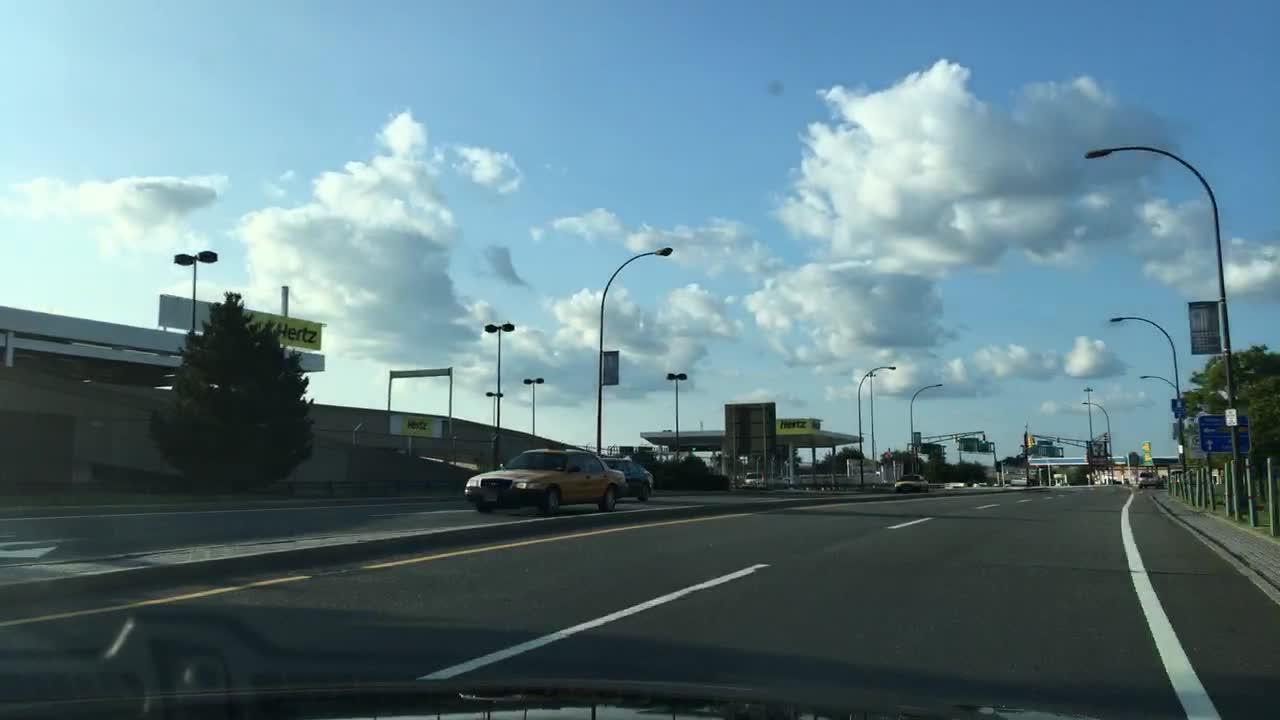car: (462, 445, 627, 515), (601, 457, 655, 500), (892, 471, 927, 490), (1134, 469, 1163, 487), (741, 469, 767, 486)
traffic light: (1026, 435, 1035, 446)
traffic sign: (1193, 413, 1247, 436), (1198, 433, 1251, 453), (1169, 395, 1185, 415), (1223, 403, 1235, 423)
